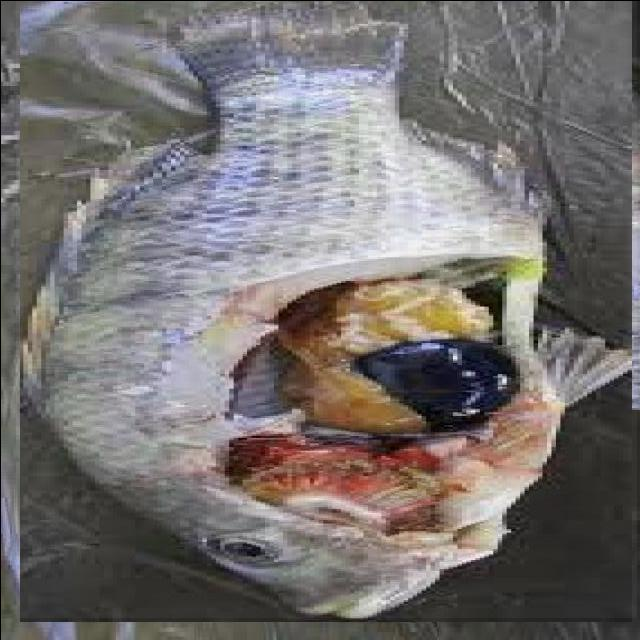EUS Disease: (15, 0, 636, 617), (211, 30, 617, 436)
